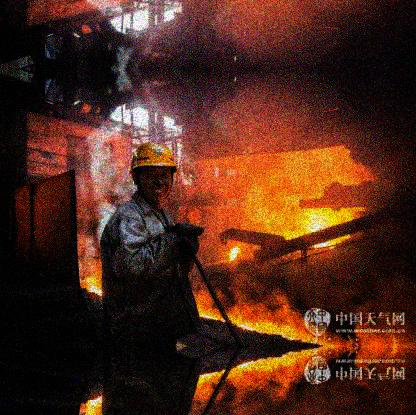helmet: (131, 141, 179, 206)
